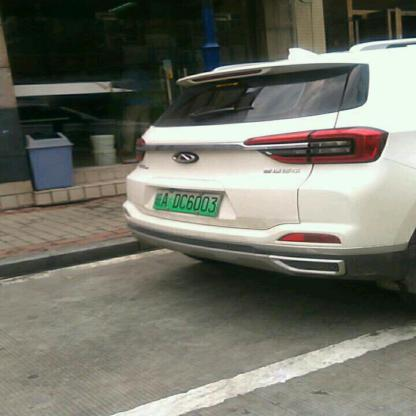lp: (151, 188, 221, 216)
